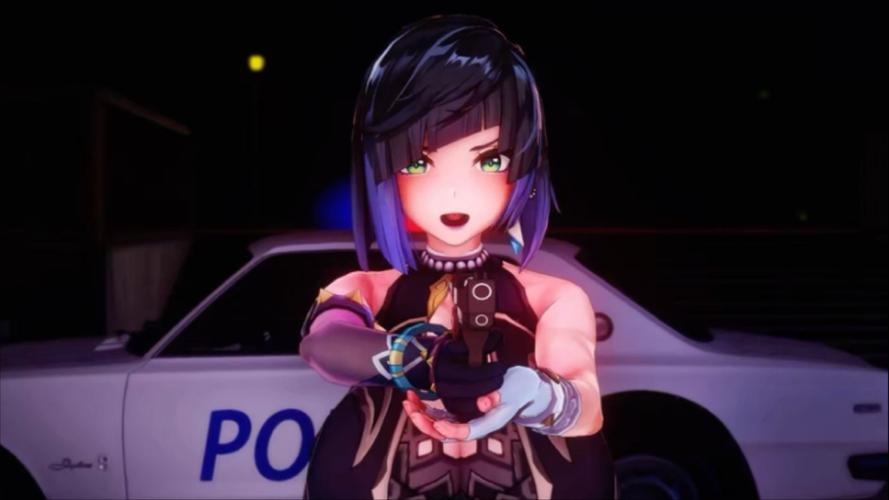夜兰: (285, 9, 604, 500)
